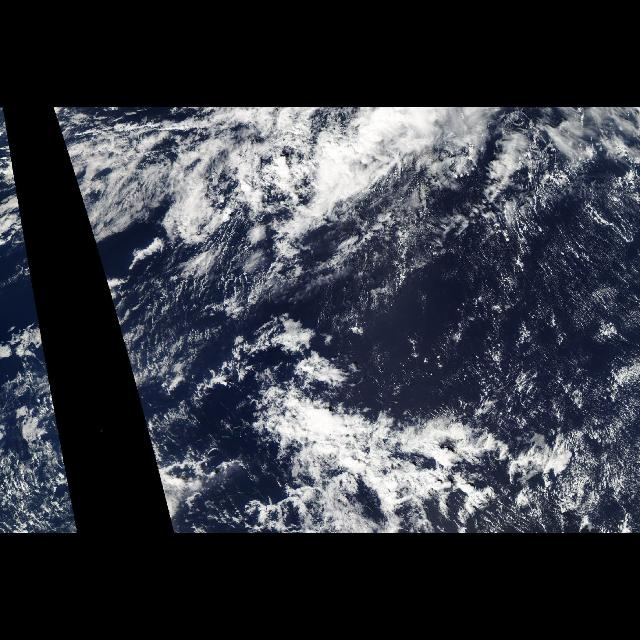Sugar: (375, 182, 639, 528), (116, 254, 324, 392)
